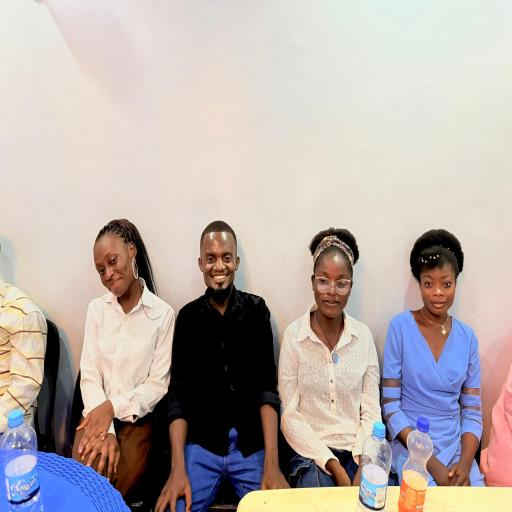MATTHIEU: (195, 220, 242, 304)
